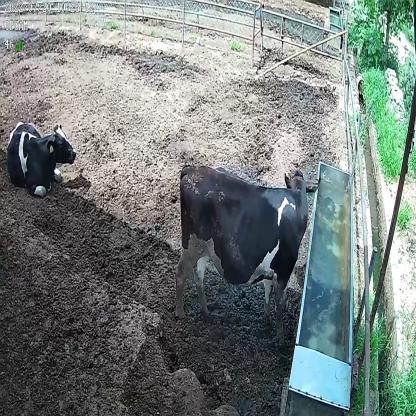cow: (171, 162, 321, 326), (4, 113, 76, 199)
